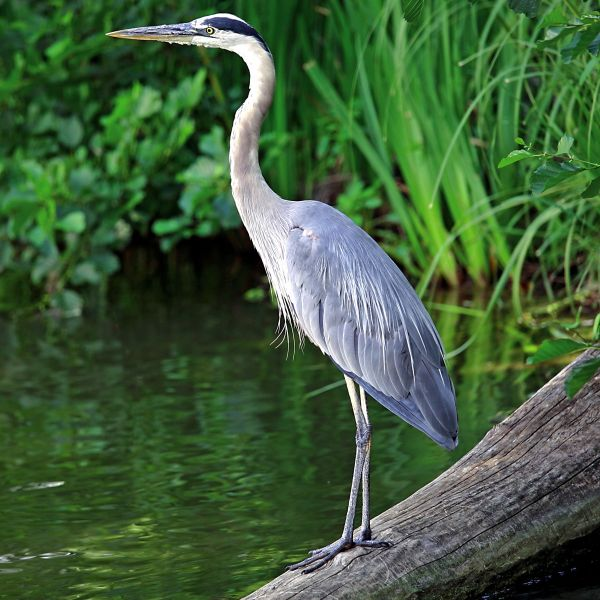heron: (99, 9, 462, 566)
